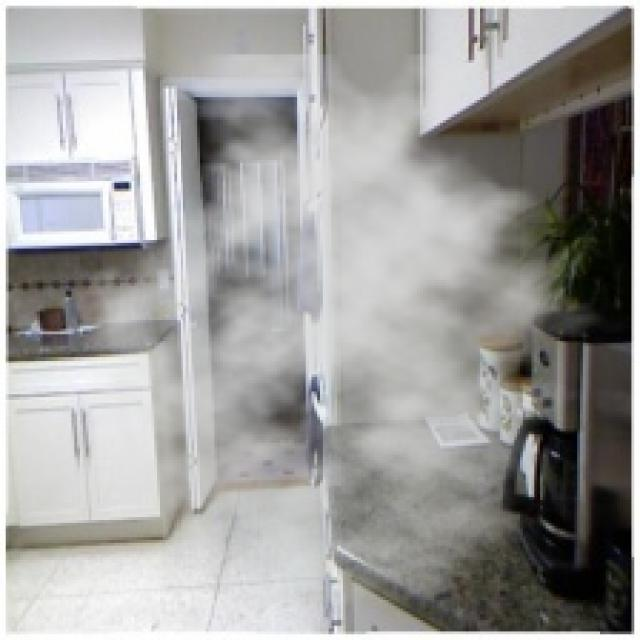smoke: (63, 54, 628, 609)
